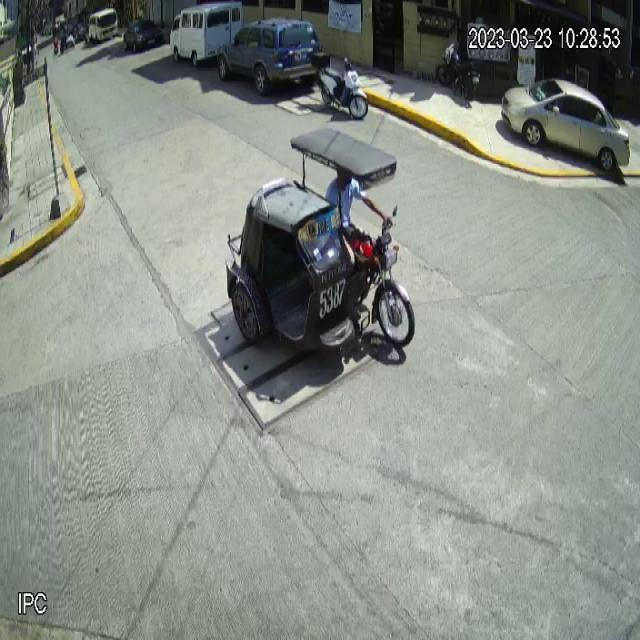Car: (501, 76, 631, 172), (217, 18, 323, 95)
Motorcycle: (311, 50, 368, 120)
Tricycle: (227, 125, 416, 353)
Van: (169, 1, 243, 68)
